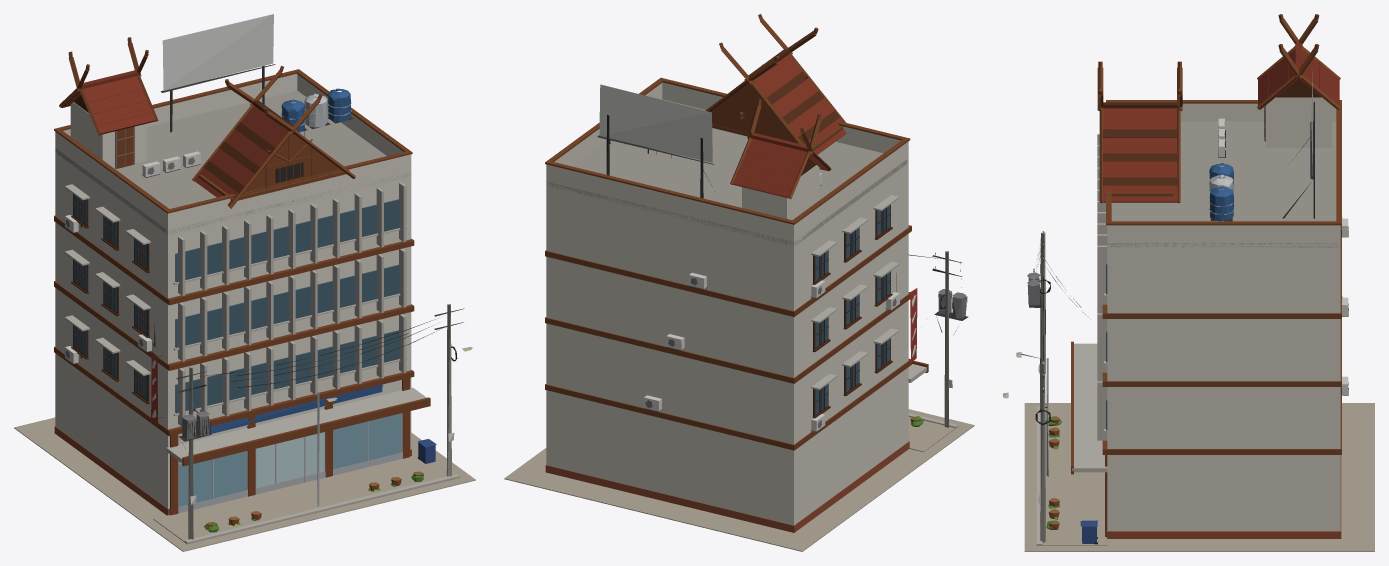
Rendered from shop_4.glb.
The picture shows the model from 3 angles, left to right: view 1: azimuth 30°, elevation 25°; view 2: azimuth 150°, elevation 25°; view 3: azimuth 270°, elevation 25°; orthographic projection. The views are drawn at different scales.
Visible parts, largest first — view 1: body, windows; view 2: body, windows; view 3: body.
Part boxes in pixels (bbox=[...]): body: bbox=[14, 14, 475, 551]; windows: bbox=[73, 162, 471, 413]; body: bbox=[504, 14, 974, 551]; windows: bbox=[815, 205, 890, 414]; body: bbox=[1003, 14, 1374, 551].
Bounding box in the file's own units: 15.9 × 20.59 × 16.87.
